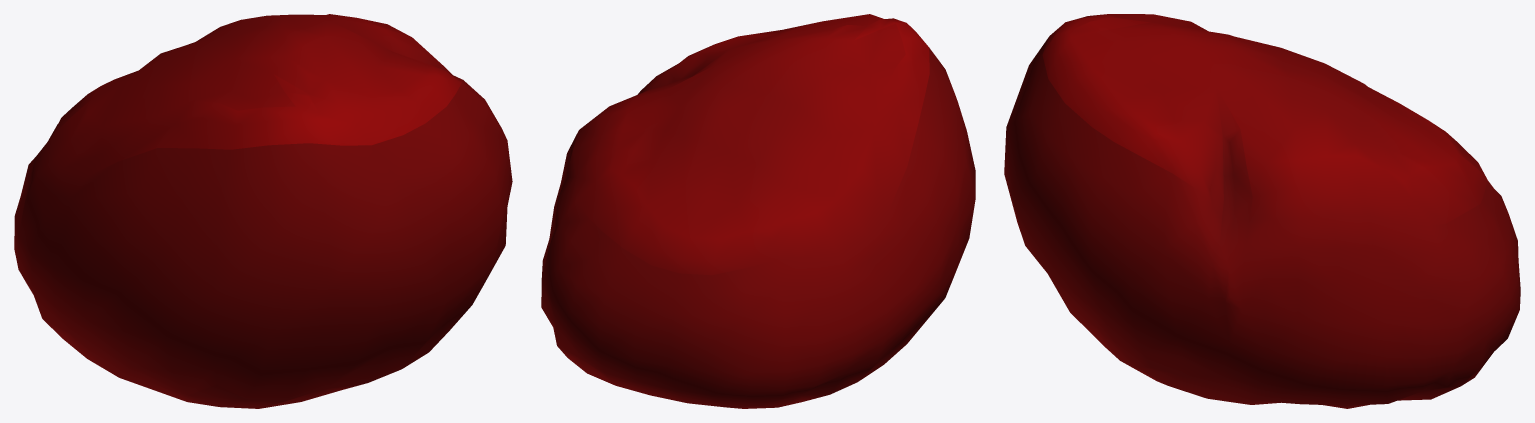
File: geology-rocks-rocklarge_v4.fbx
3 renders of one model, left to right at view 1: azimuth 30°, elevation 25°; view 2: azimuth 150°, elevation 25°; view 3: azimuth 270°, elevation 25°, orthographic. The views are drawn at different scales.
Parts seen in each view (by area): view 1: RockLarge_v4; view 2: RockLarge_v4; view 3: RockLarge_v4.
Boxes of the visible parts, left/top/right/bottom form: RockLarge_v4: left=14, top=14, right=512, bottom=408; RockLarge_v4: left=541, top=14, right=975, bottom=408; RockLarge_v4: left=1004, top=14, right=1520, bottom=408.
Bounding box in the file's own units: 8.54 × 6.74 × 9.96.
